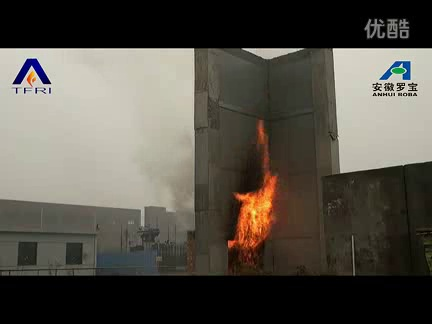fire: (223, 124, 284, 258)
